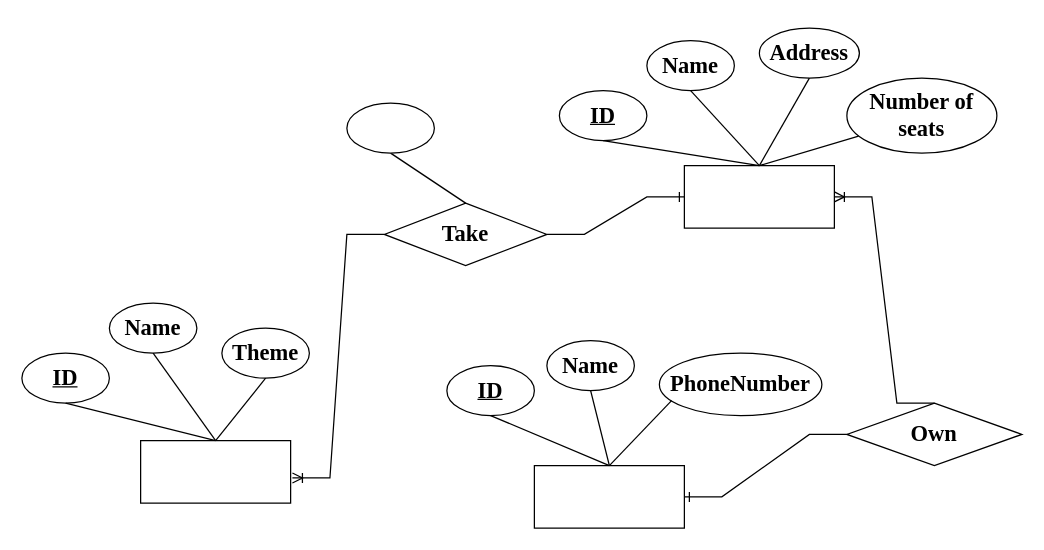
Some shapes in this 1044 by 550 pixel diagram are drawn without their labels. The shapes that lost their labels are listed below. From the top down, each one's centre as x and y in pixels, then its label:
the point at 390,127: When
the point at 758,196: Location
the point at 215,471: Event
the point at 608,496: Owner
